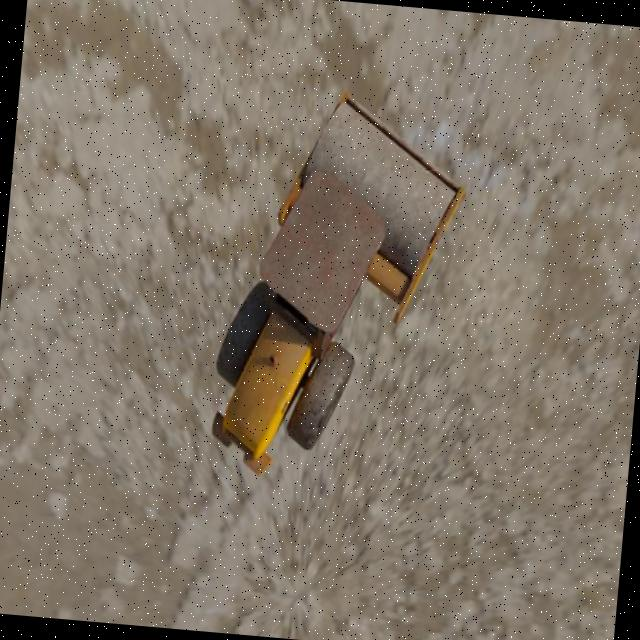Roller: (206, 81, 472, 491)
